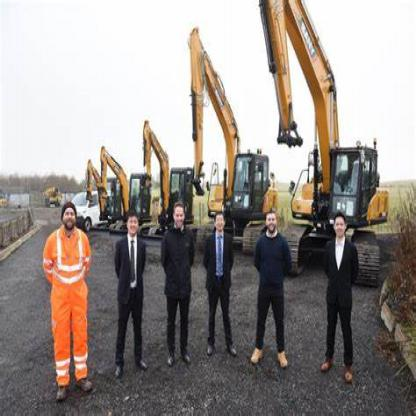person: (315, 192, 366, 388), (46, 199, 96, 395), (247, 197, 290, 378), (109, 197, 147, 386), (161, 198, 191, 368), (205, 191, 235, 361)
